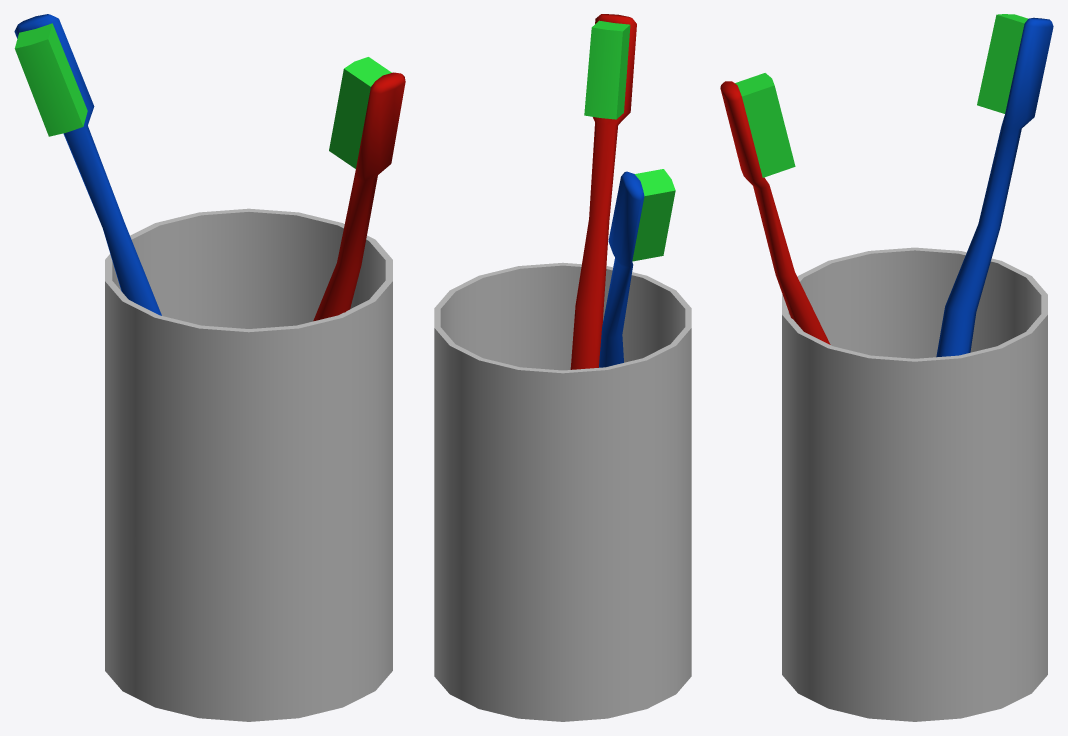
File: Toothbrushes.fbx
3 views of the same model, side by side, from view 1: azimuth 30°, elevation 25°; view 2: azimuth 150°, elevation 25°; view 3: azimuth 270°, elevation 25° (orthographic). The views are drawn at different scales.
Parts seen in each view (by area): view 1: Toothbrushes; view 2: Toothbrushes; view 3: Toothbrushes.
Part boxes in pixels (x1=…): Toothbrushes: x1=14, y1=14, x2=405, y2=721; Toothbrushes: x1=434, y1=14, x2=691, y2=721; Toothbrushes: x1=720, y1=14, x2=1053, y2=721.
Bounding box in the file's own units: 0.0972 × 0.1963 × 0.0989.
